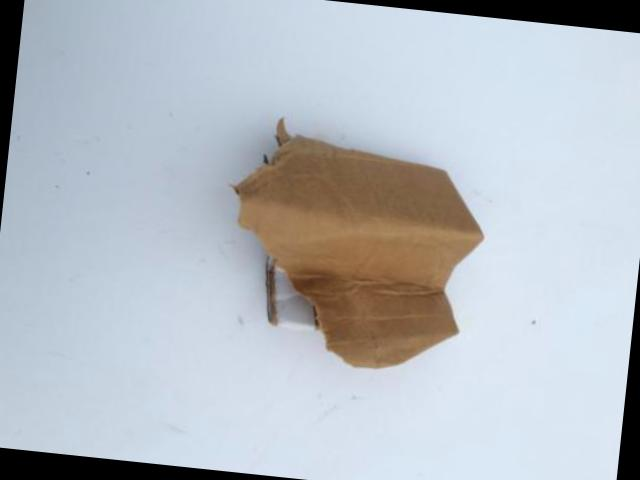cardboard paper: (238, 139, 483, 369)
